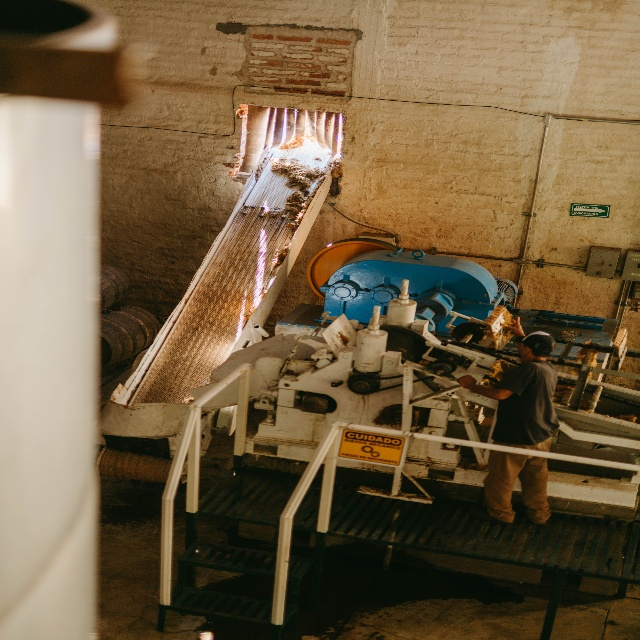Sin_guantes: (506, 316, 524, 338), (457, 373, 476, 391)
